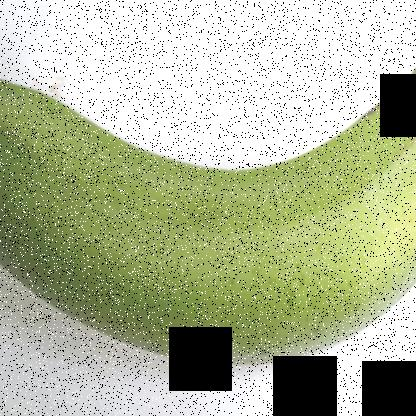freshunripe: (1, 47, 415, 387)
